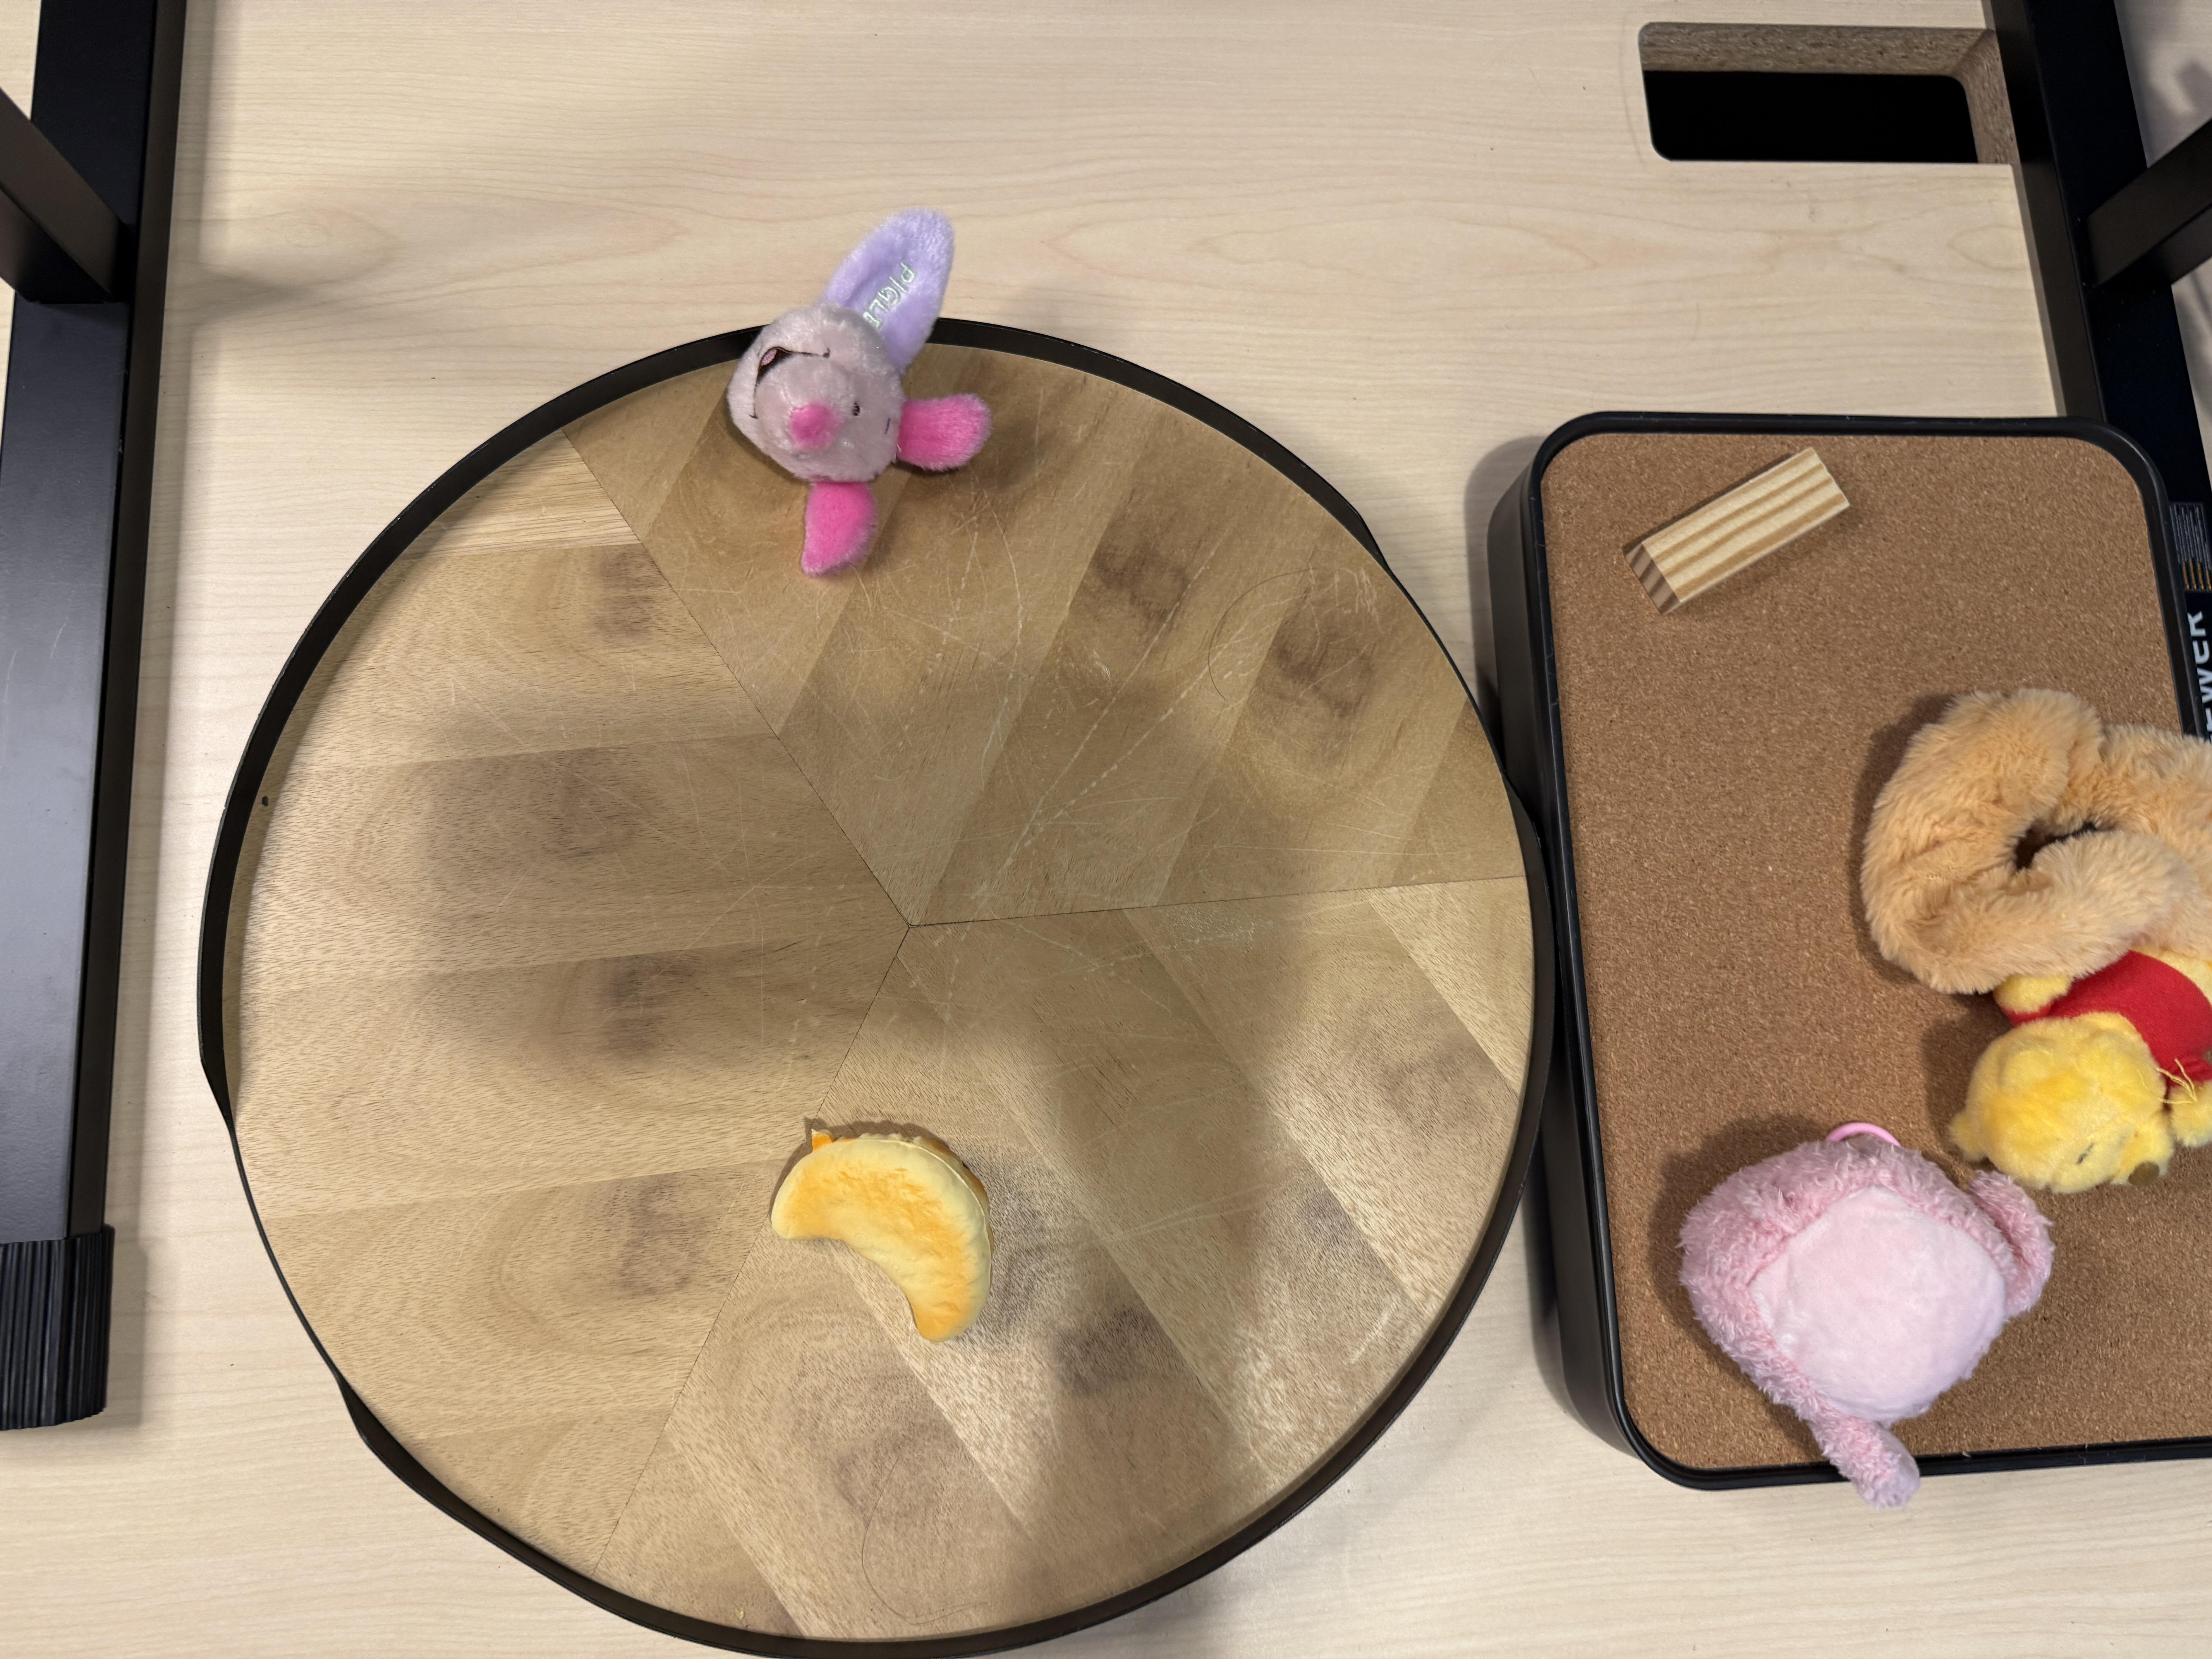block: (1625, 446, 1855, 615)
bread: (777, 1119, 991, 1338)
doll: (1857, 690, 2212, 1194), (1676, 1126, 2081, 1509), (725, 209, 993, 573)
